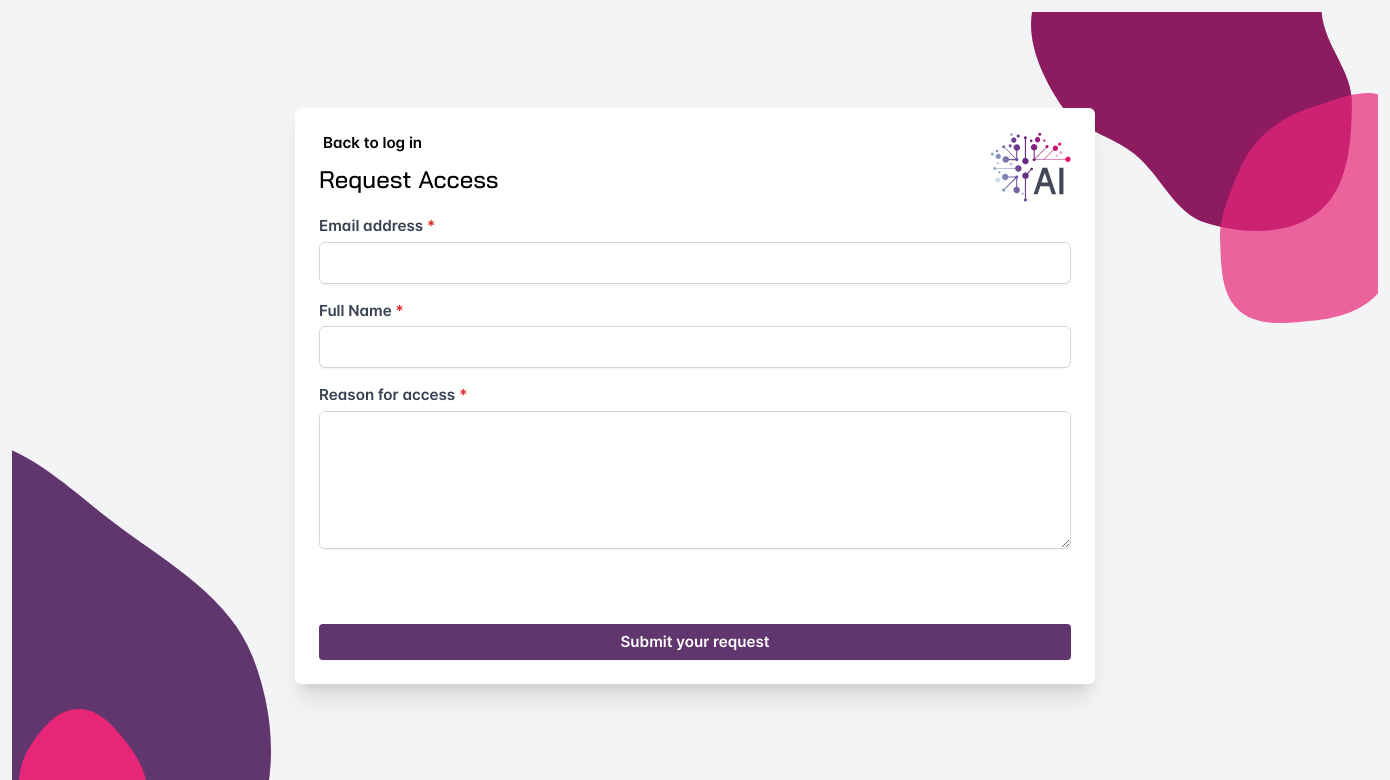
Scenario: Access request page › should display an error snackbar if request fails to submit
Type "valid@email.com" into the field with test id "email-input" at (695, 263), box [319,242,1071,284]
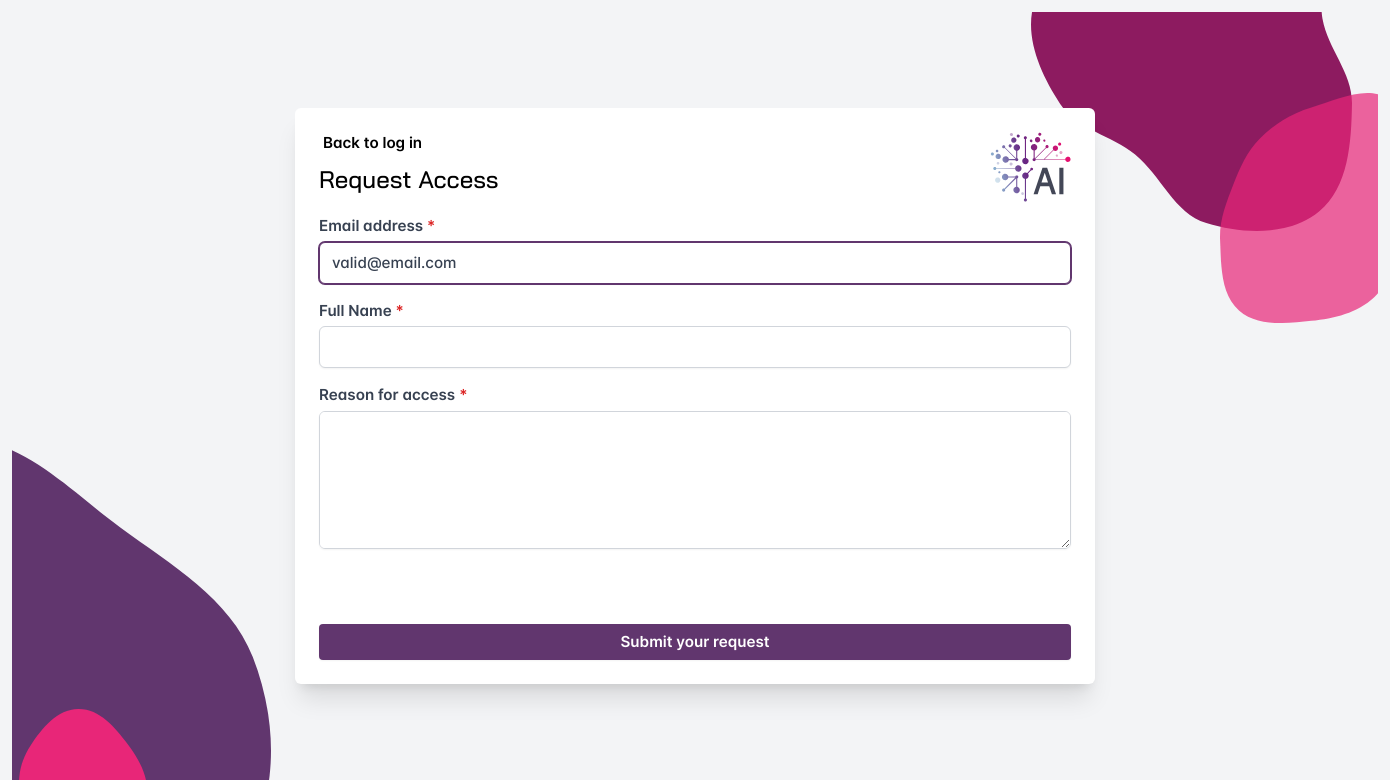
Type "Joe Bloggs" into the field with test id "full-name-input" at (695, 347), box [319,326,1071,368]
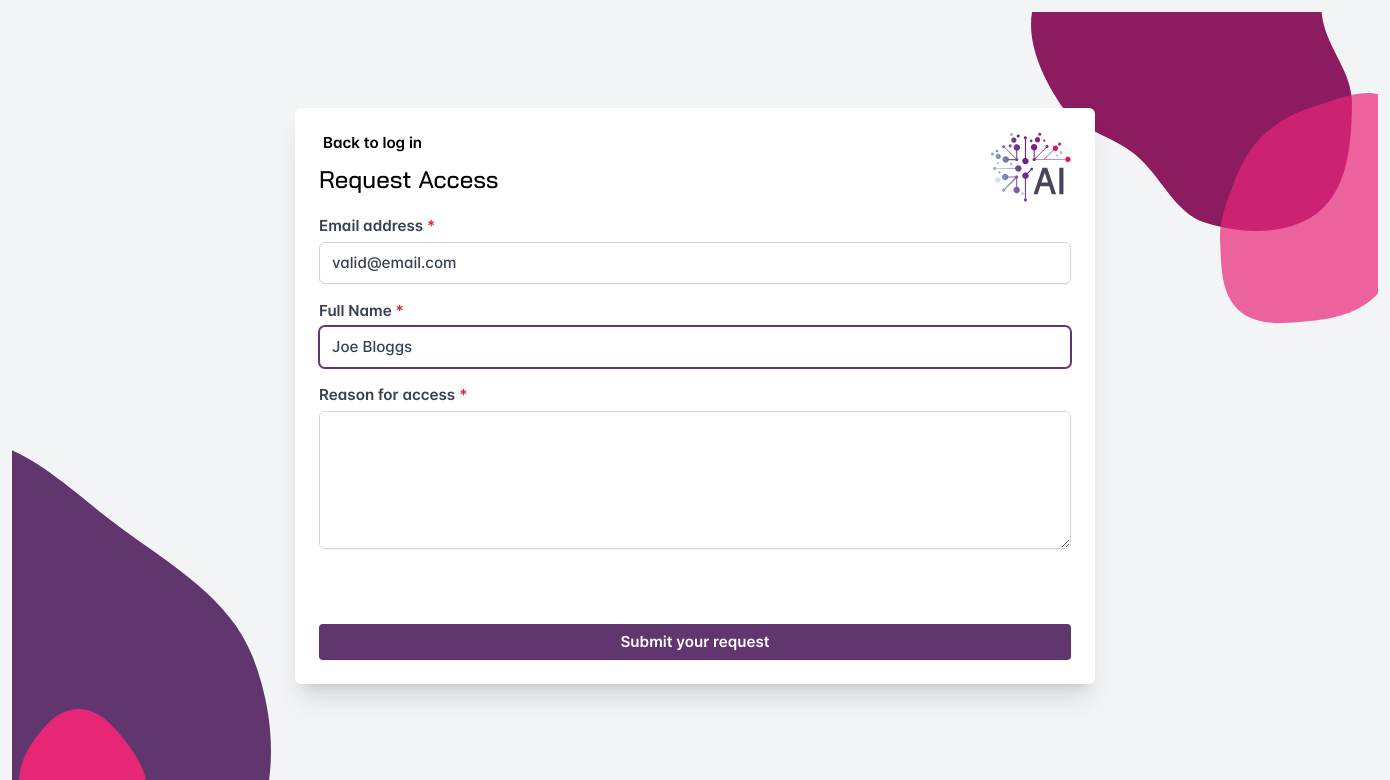
Type "This is a reason for access" into the text box with test id "reason-for-access-textarea" at (695, 480), box [320,412,1070,548]
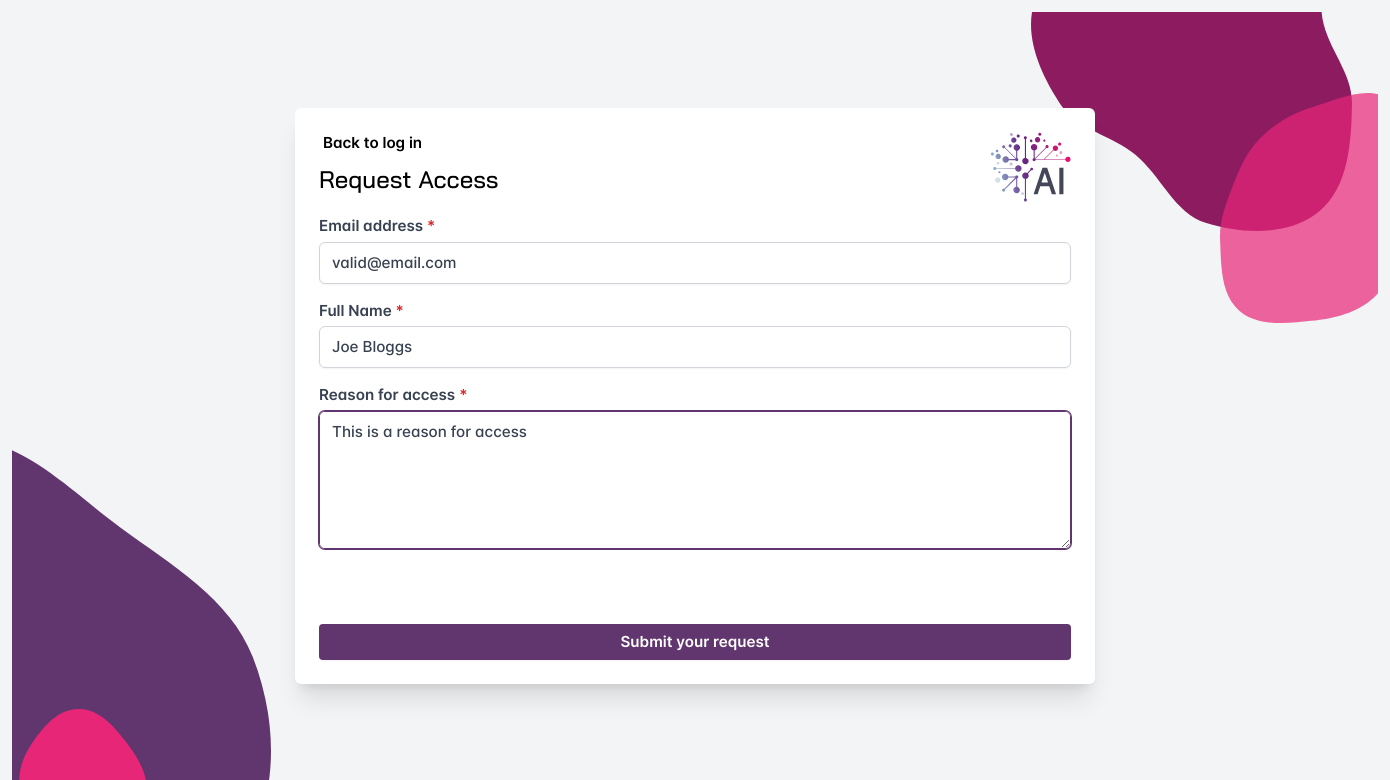
Click the button with test id "submit-access-request-btn" at (695, 642), box [319,624,1071,660]
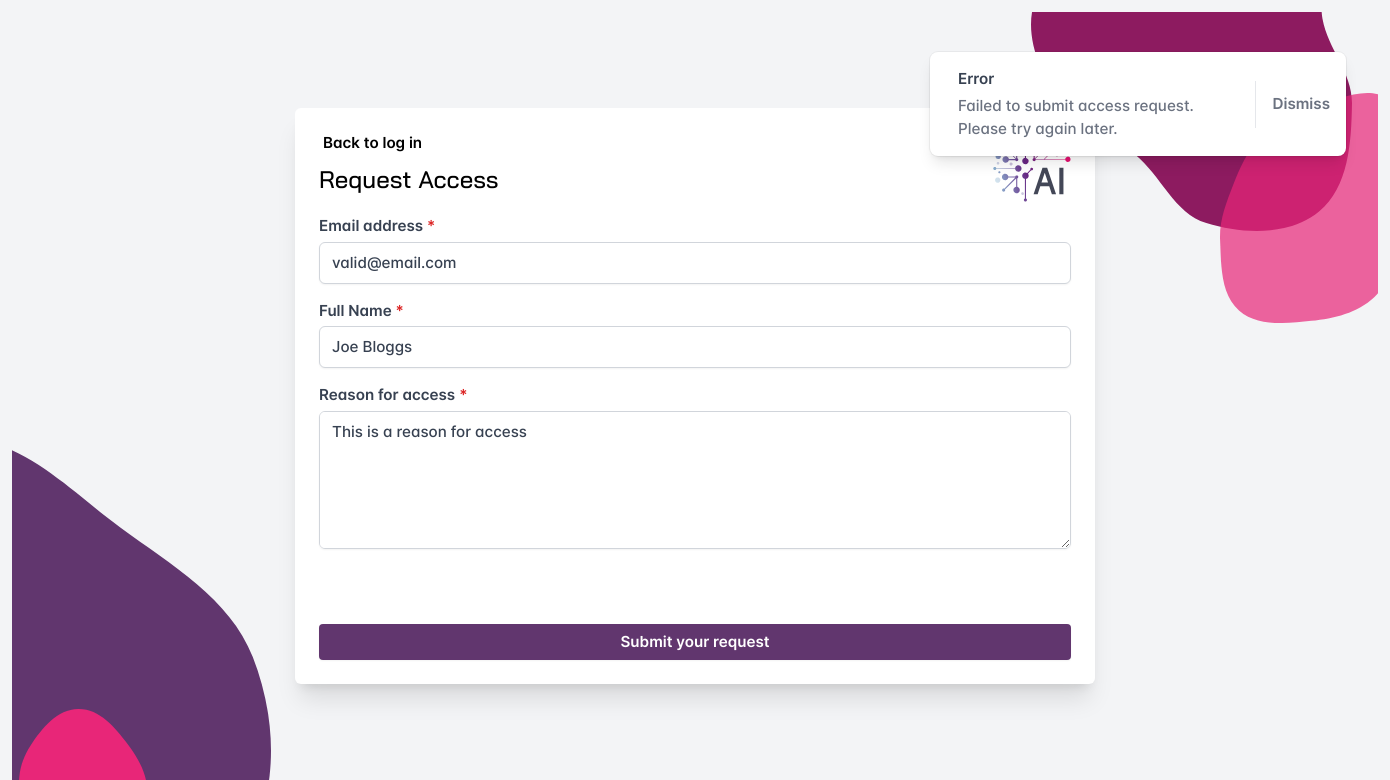
Expected: the text "Error" is shown, [958,69,994,88]
Expected: the text "Failed to submit access request. Please try again later." is shown, [958,96,1194,138]
